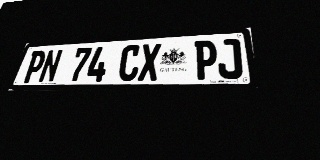4: (85, 46, 110, 82)
7: (67, 47, 93, 82)
C: (117, 44, 141, 81)
J: (217, 38, 243, 79)
N: (37, 49, 63, 83)
P: (194, 40, 218, 80), (21, 50, 48, 83)
X: (137, 43, 161, 81)
